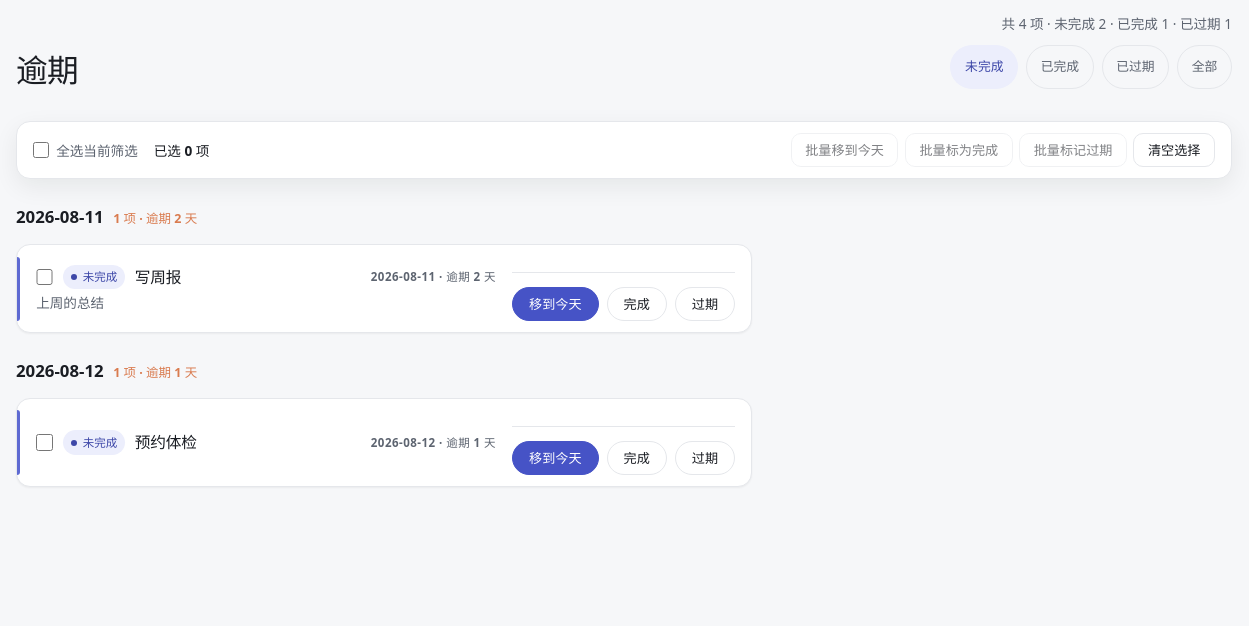
Test: overdue page › switches between status filters
Check: the heading "写周报" is shown, box top-left (135, 264), bottom-right (181, 290)
Click the button "已完成" at coordinates (1060, 67), box top-left (1026, 45), bottom-right (1094, 89)
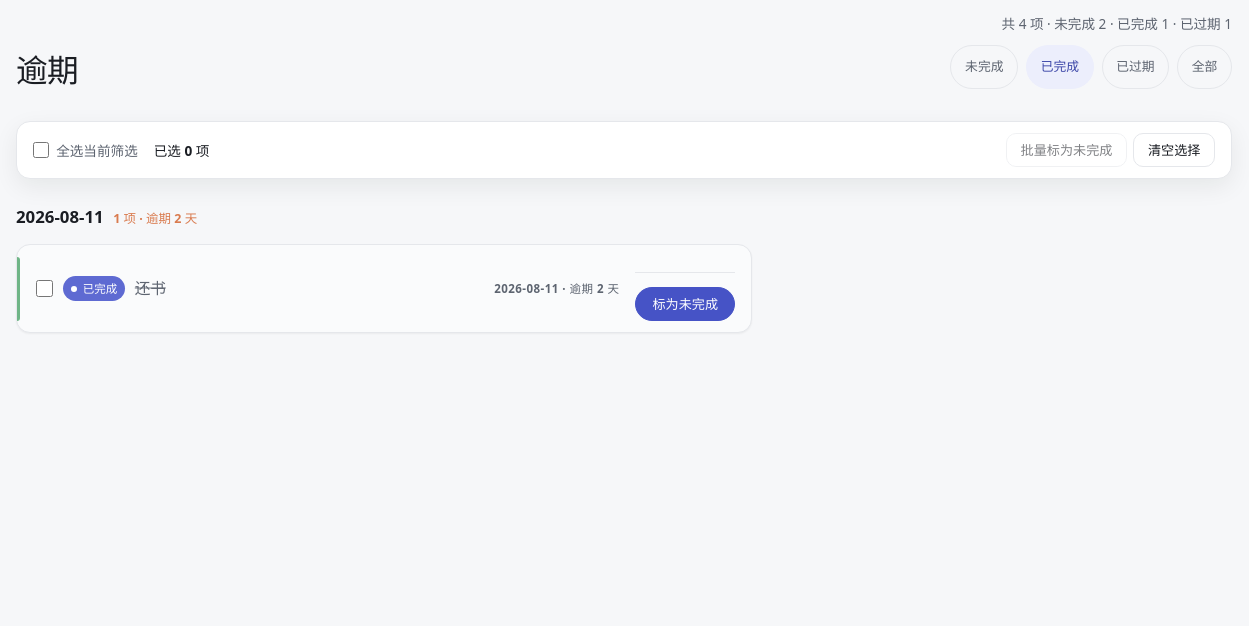
Check: the heading "还书" is shown, box top-left (135, 275), bottom-right (166, 302)
Check: the heading "写周报" is gone
Click the button "已过期" at coordinates (1135, 67), box top-left (1102, 45), bottom-right (1169, 89)
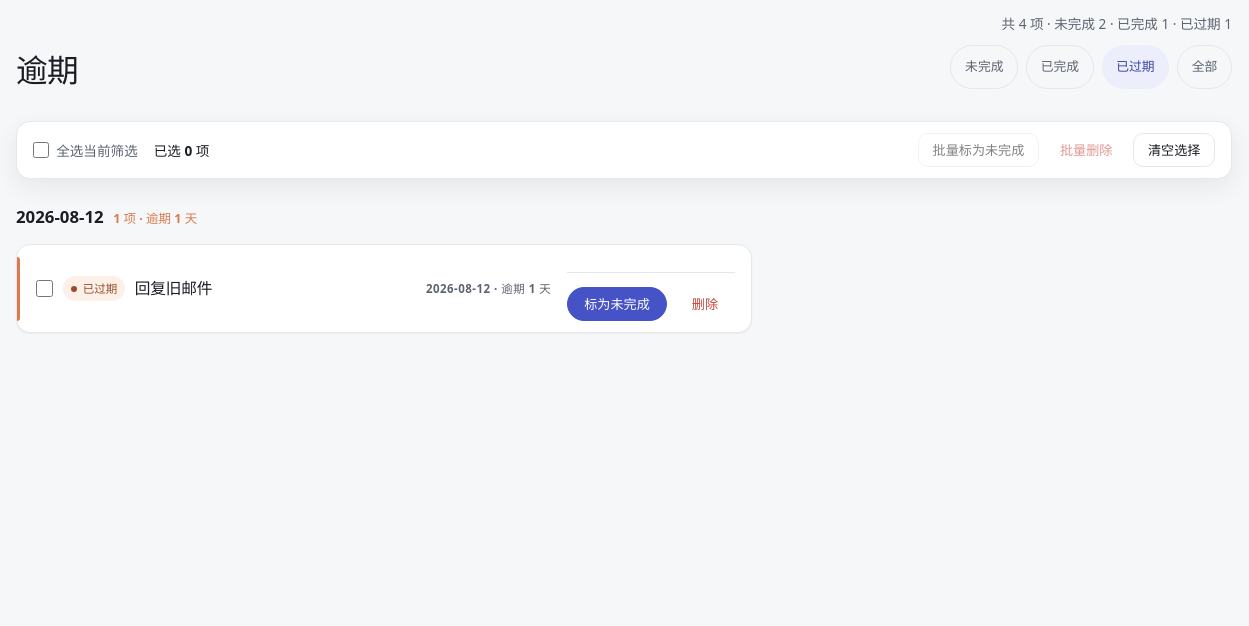
Check: the heading "写周报" is not shown
Check: the heading "回复旧邮件" is shown, box top-left (135, 275), bottom-right (212, 302)
Check: the heading "还书" is gone
Click the button "全部" at coordinates (1205, 67), box top-left (1177, 45), bottom-right (1232, 89)
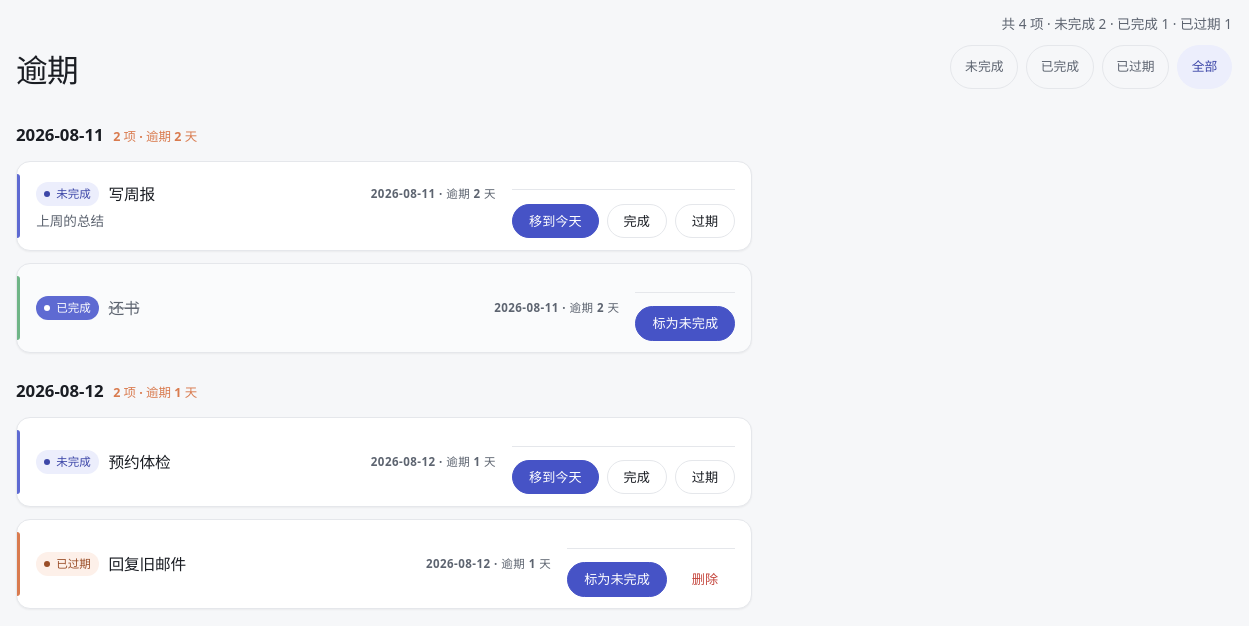
Check: the heading "还书" is shown, box top-left (108, 295), bottom-right (139, 322)
Check: the heading "写周报" is shown, box top-left (108, 181), bottom-right (155, 208)
Check: the heading "预约体检" is shown, box top-left (108, 449), bottom-right (170, 475)
